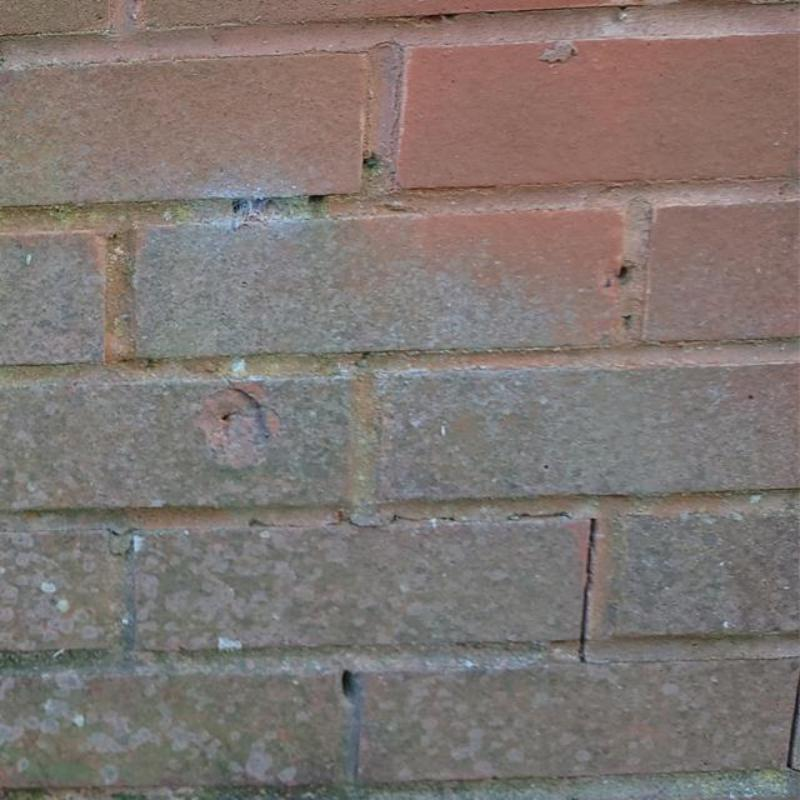crack: (578, 519, 597, 662), (325, 515, 456, 528), (786, 673, 799, 774), (506, 511, 572, 521), (246, 519, 305, 529), (420, 11, 461, 24), (340, 669, 356, 701), (618, 265, 628, 279), (308, 195, 322, 201)
